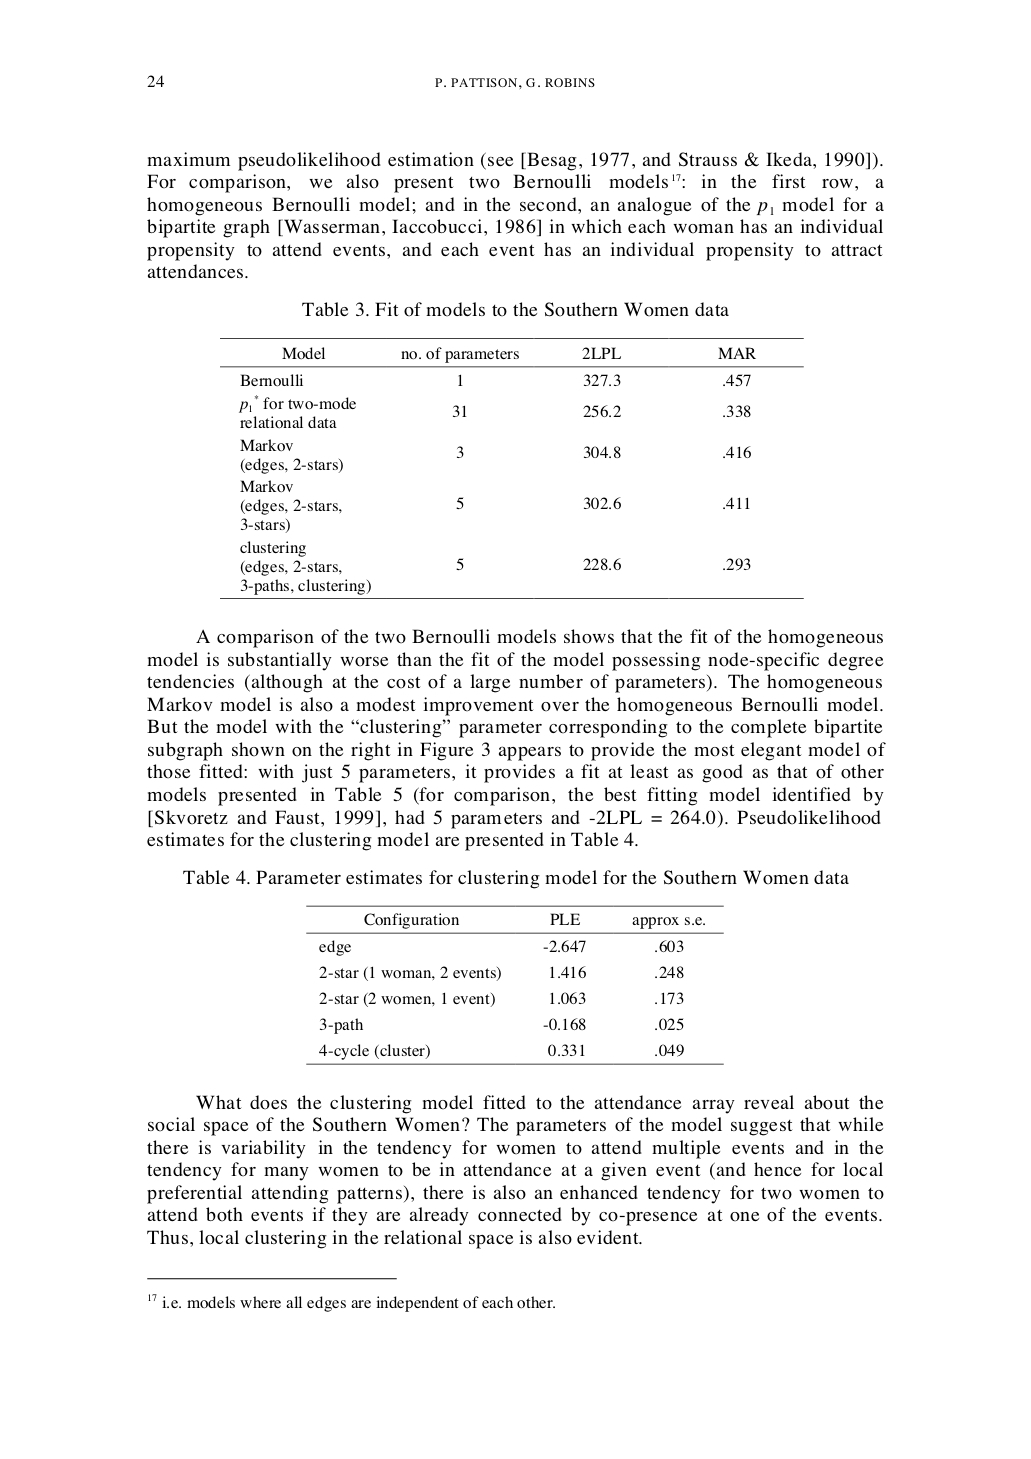Table: (220, 338, 803, 598), (306, 905, 723, 1064)
